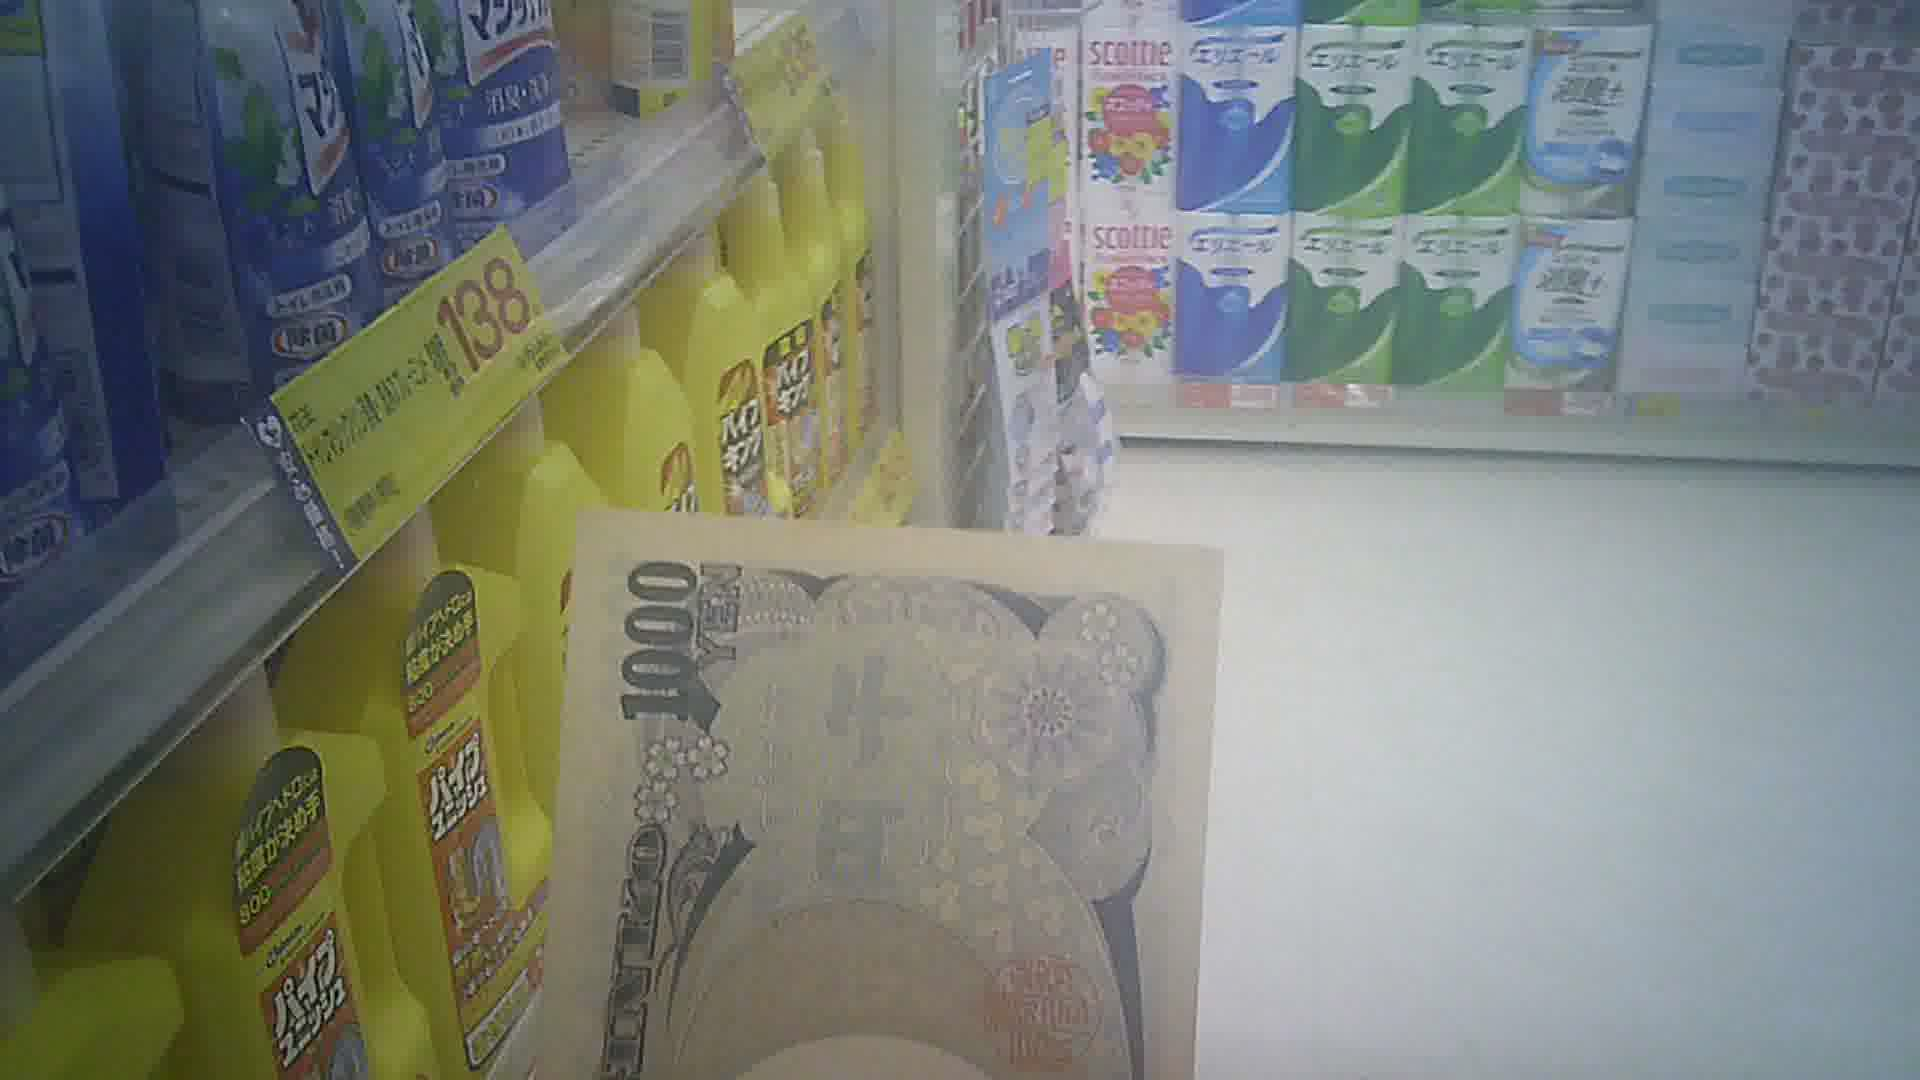1,000 Yen: (529, 495, 1229, 1079)
